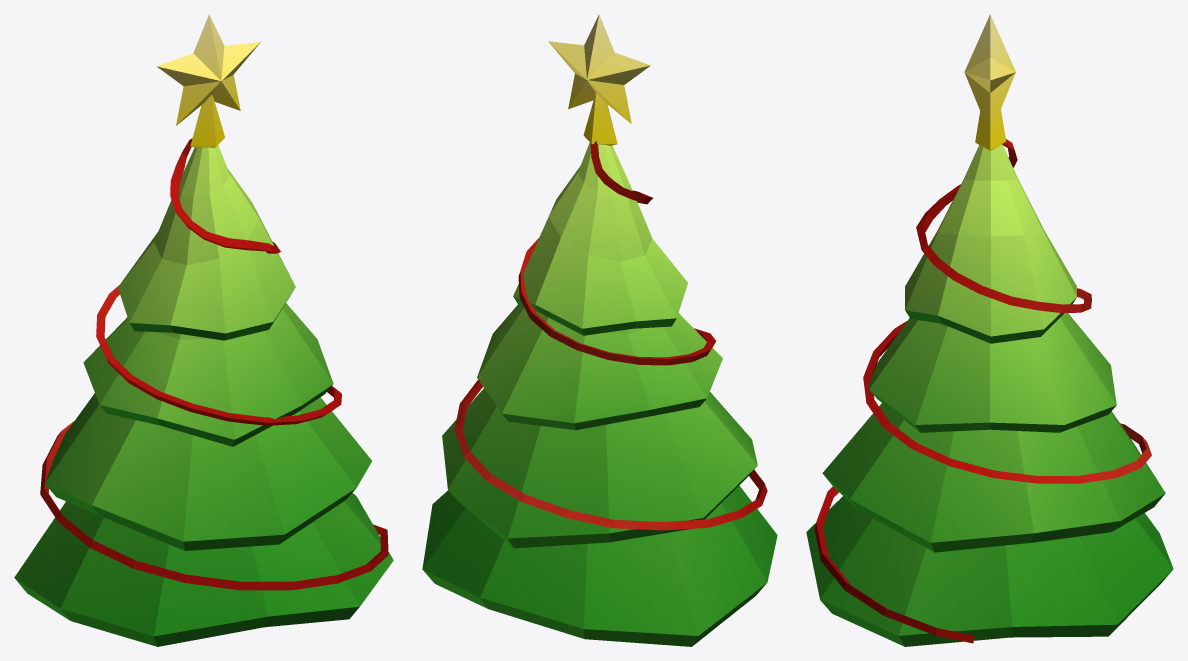
File: ChristmasTree.obj
3 renders of one model, left to right at view 1: azimuth 30°, elevation 25°; view 2: azimuth 150°, elevation 25°; view 3: azimuth 270°, elevation 25°, orthographic. The views are drawn at different scales.
Parts seen in each view (by area): view 1: Christmas_Tree_Mesh; view 2: Christmas_Tree_Mesh; view 3: Christmas_Tree_Mesh.
Part boxes in pixels (x1,y1,x2,y2): Christmas_Tree_Mesh: [14, 14, 393, 646]; Christmas_Tree_Mesh: [422, 14, 777, 646]; Christmas_Tree_Mesh: [806, 14, 1173, 646].
Bounding box in the file's own units: 2.08 × 3.6 × 2.05.
